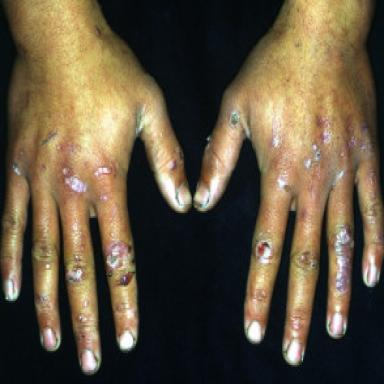Epidermolysis-Bullosa-Pruriginosa: (328, 223, 354, 294), (105, 240, 135, 285), (73, 314, 99, 348), (252, 232, 276, 266), (62, 164, 88, 194), (66, 254, 86, 283), (11, 147, 28, 176), (315, 115, 331, 145), (114, 303, 138, 319), (366, 169, 378, 199), (94, 163, 117, 178), (299, 252, 318, 270), (135, 103, 145, 137), (346, 115, 356, 148), (277, 176, 291, 192), (229, 110, 240, 127), (270, 133, 283, 147), (312, 142, 321, 162), (35, 292, 48, 305), (256, 288, 267, 303), (360, 122, 368, 135), (169, 160, 176, 171), (95, 26, 101, 38), (100, 194, 110, 201), (179, 147, 184, 161), (68, 141, 73, 153), (305, 158, 311, 168), (56, 144, 63, 151), (83, 300, 89, 307)
